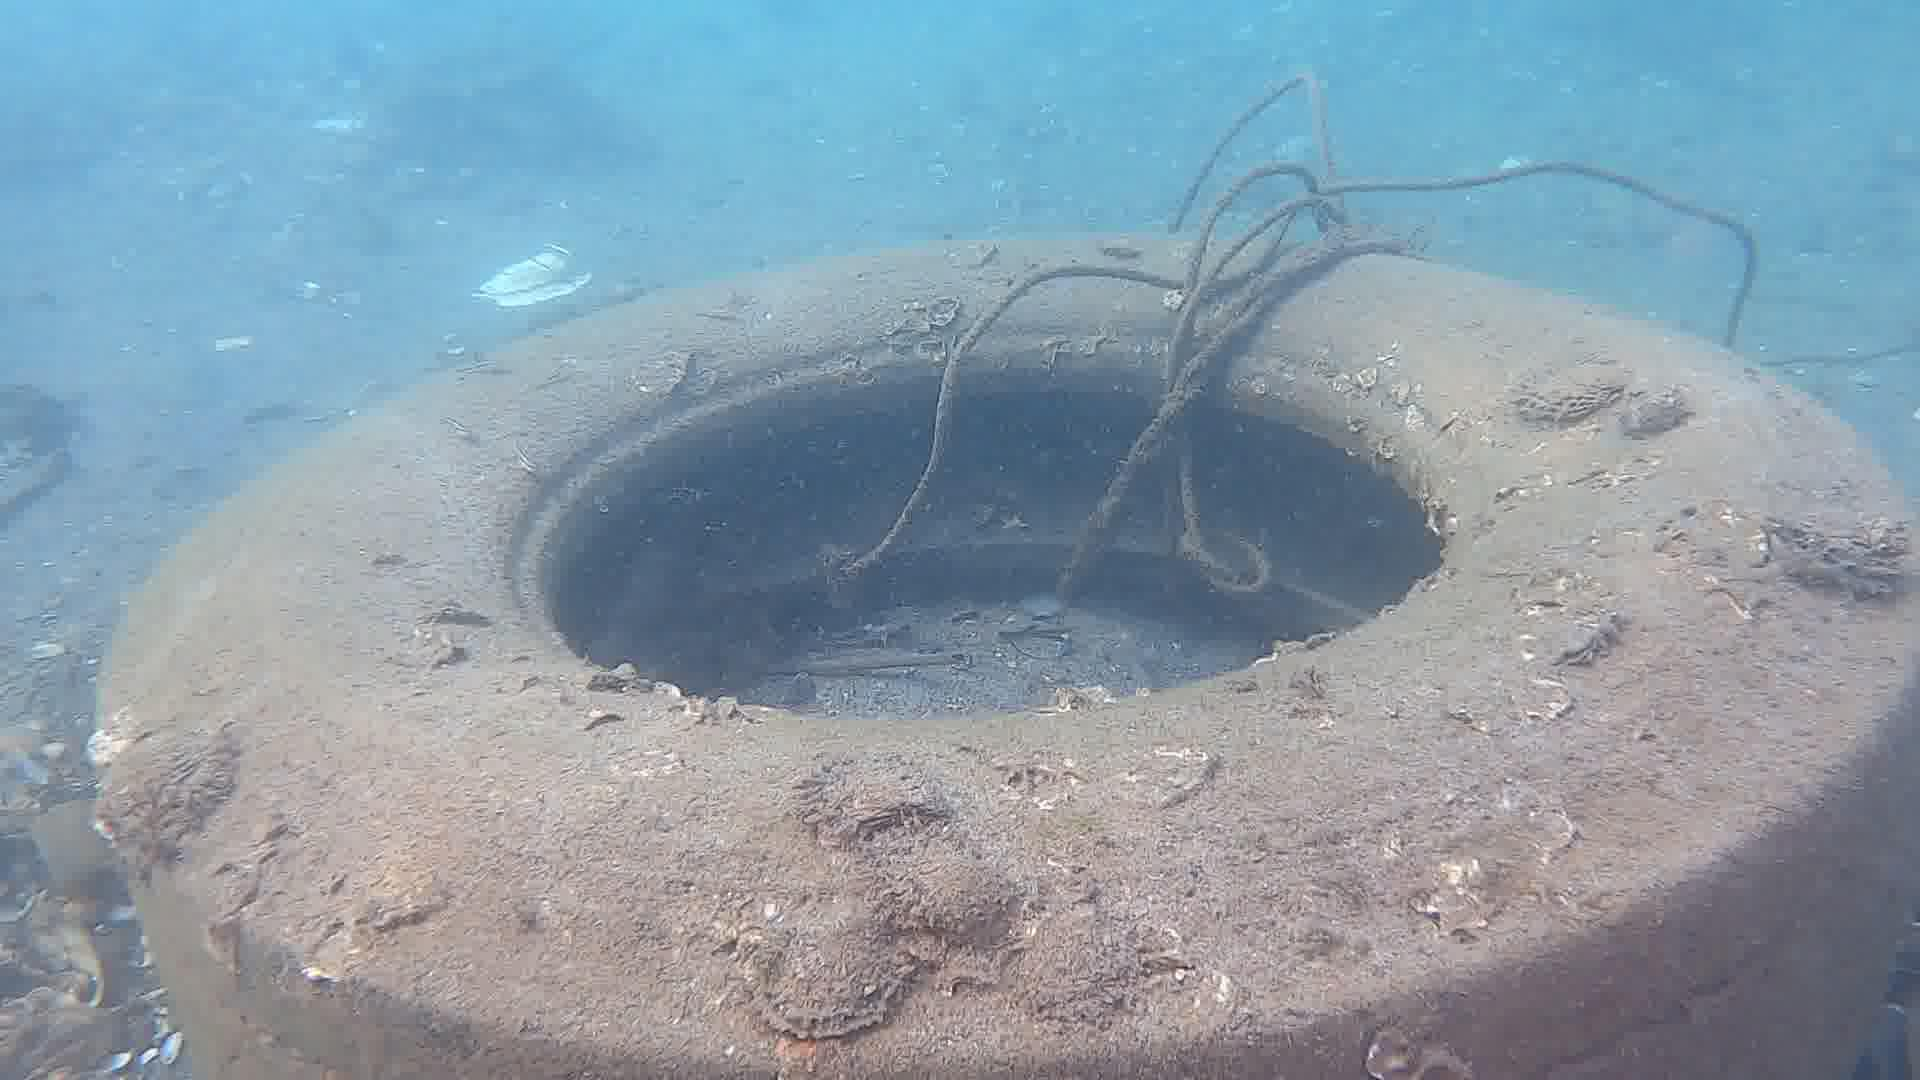bundle of ropes: (843, 67, 1758, 599)
tire: (98, 228, 1920, 1080)
